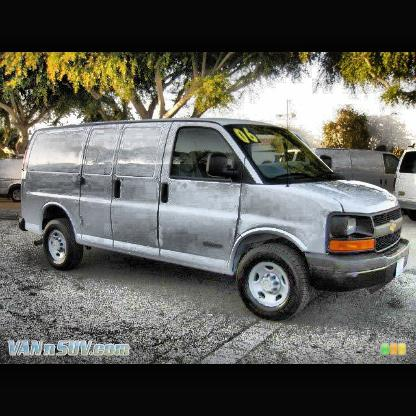Chevrolet Express Cargo Van 2007: (16, 118, 414, 325)
